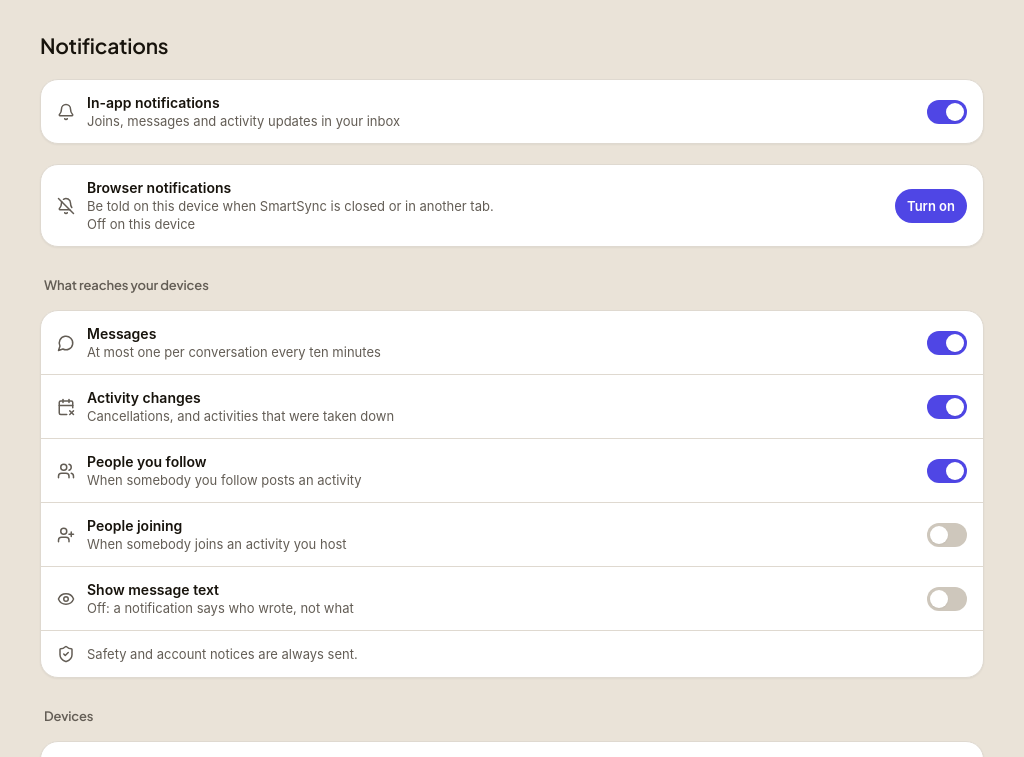
this browser › a refusal is said, and nothing is registered
The width and height of the screenshot is (1024, 757).
Click the button "Turn on" at (931, 206), box [895,189,967,223]
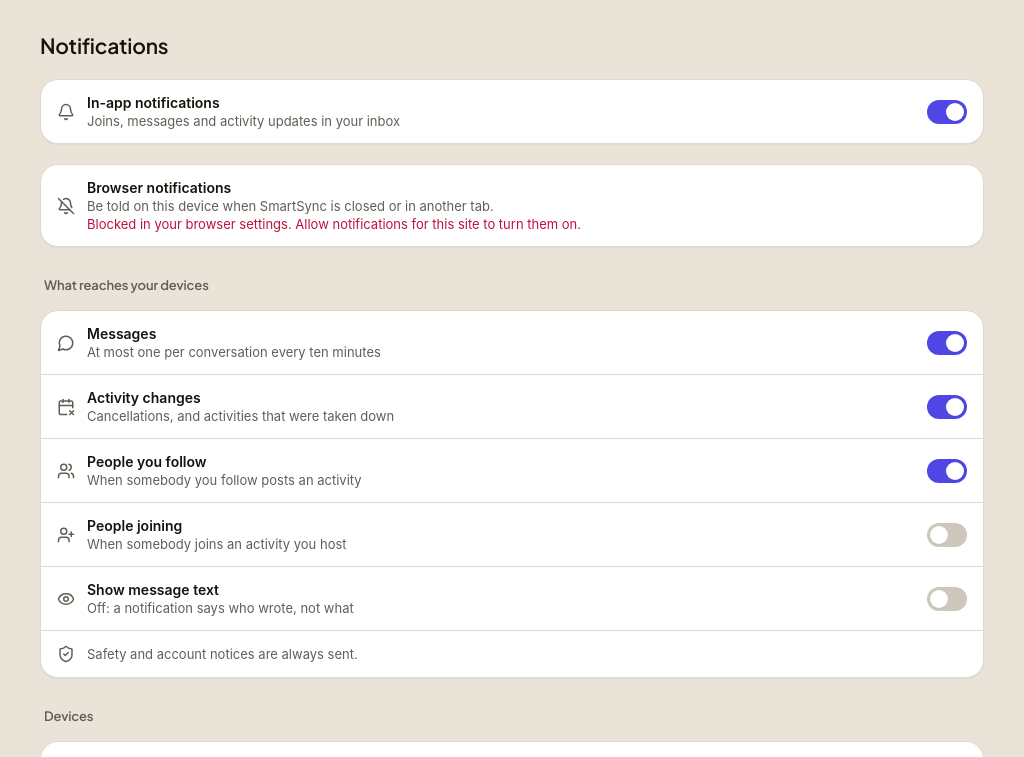
Now the text "Blocked in your browser settings" is shown, box [87,216,581,232]
Now the button "Turn on" is gone
